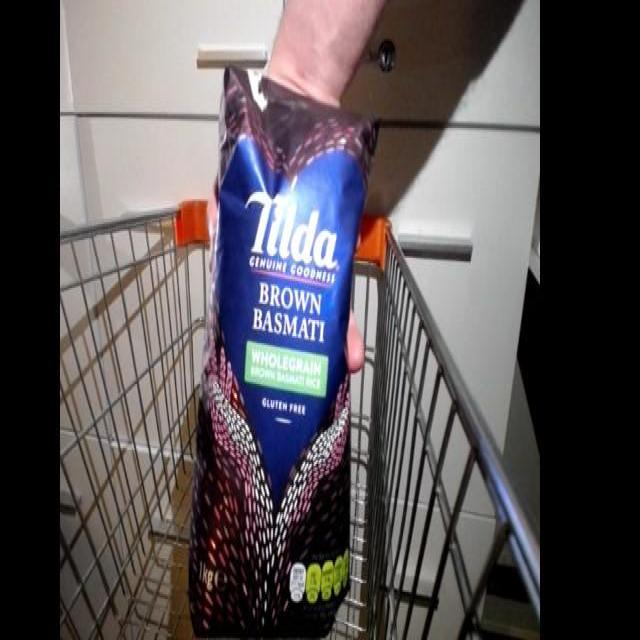Tida: (181, 70, 385, 636)
